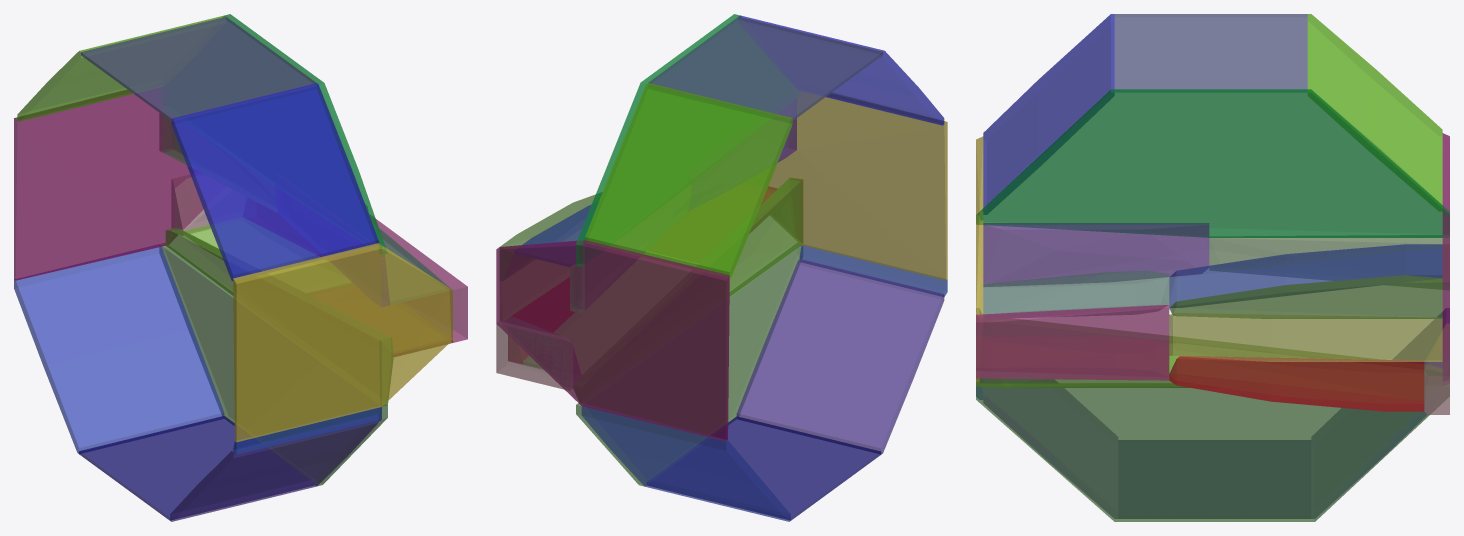
Rendered from Knob.obj.
The picture shows the model from 3 angles, left to right: view 1: azimuth 30°, elevation 25°; view 2: azimuth 150°, elevation 25°; view 3: azimuth 270°, elevation 25°; orthographic projection. The views are drawn at different scales.
Visible parts, largest first — view 1: Shape_IndexedFaceSet_Shape_IndexedFaceSet.231; view 2: Shape_IndexedFaceSet_Shape_IndexedFaceSet.231; view 3: Shape_IndexedFaceSet_Shape_IndexedFaceSet.231.
Boxes of the visible parts, x1=… form: Shape_IndexedFaceSet_Shape_IndexedFaceSet.231: x1=14, y1=14, x2=467, y2=521; Shape_IndexedFaceSet_Shape_IndexedFaceSet.231: x1=496, y1=14, x2=947, y2=521; Shape_IndexedFaceSet_Shape_IndexedFaceSet.231: x1=976, y1=14, x2=1449, y2=521.
Bounding box in the file's own units: 0.0232 × 0.0387 × 0.0387.
